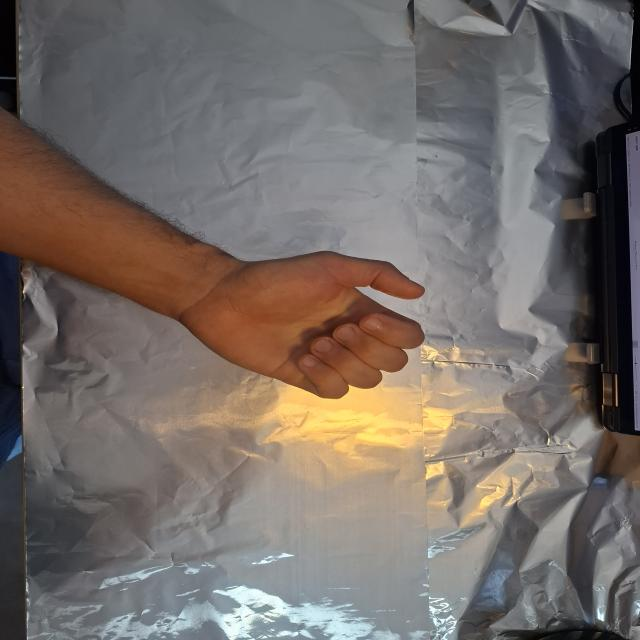glove_off: (171, 249, 428, 402)
